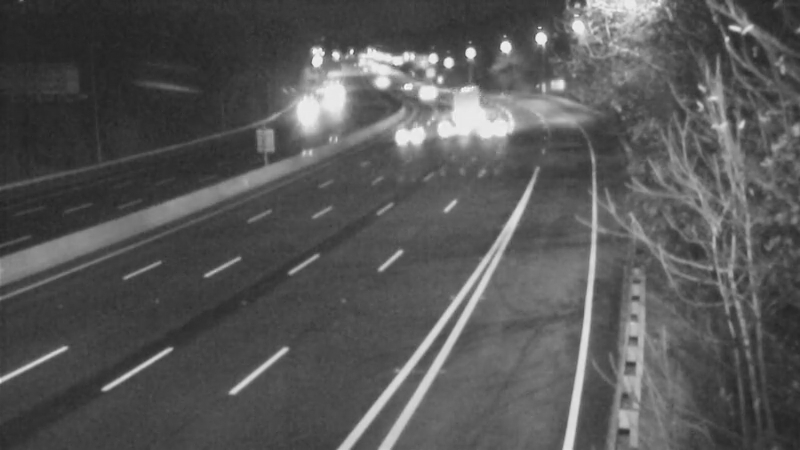vehicle: (354, 56, 404, 106), (379, 63, 429, 113), (402, 69, 452, 119), (440, 82, 490, 132), (465, 105, 515, 155), (421, 102, 471, 152), (385, 106, 435, 156), (280, 88, 330, 138), (305, 73, 355, 123)
